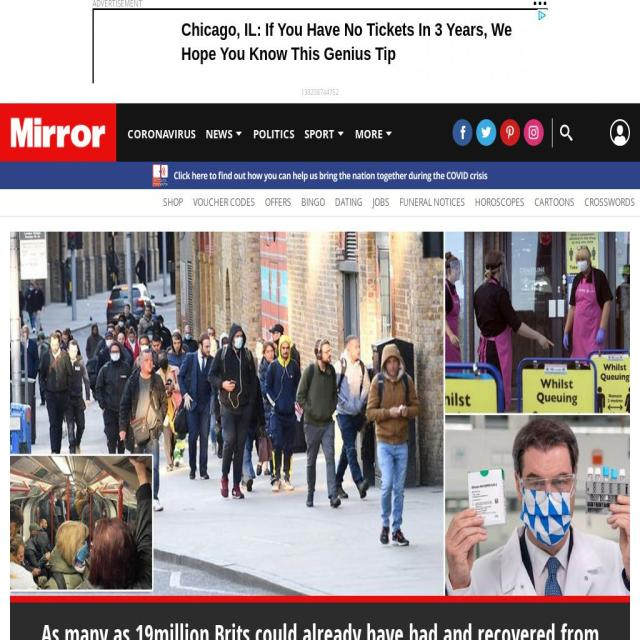button: (10, 232, 630, 596), (0, 162, 640, 188), (17, 616, 622, 640), (0, 103, 117, 162), (122, 103, 202, 162), (248, 103, 300, 162), (300, 103, 350, 162), (350, 103, 399, 162), (200, 103, 248, 162), (394, 189, 470, 214), (188, 189, 260, 214), (579, 189, 640, 214), (470, 189, 529, 214), (530, 189, 580, 214), (330, 189, 368, 214), (260, 189, 296, 214), (153, 189, 188, 214), (296, 189, 330, 214), (368, 189, 394, 214)
iframe: (92, 8, 548, 84)
image: (10, 232, 630, 596), (139, 162, 501, 188), (610, 119, 630, 146), (452, 119, 472, 146), (476, 119, 496, 146), (500, 119, 520, 146), (524, 119, 544, 146), (532, 0, 538, 7), (542, 0, 548, 7), (538, 0, 542, 7)
text: (301, 85, 339, 96)
